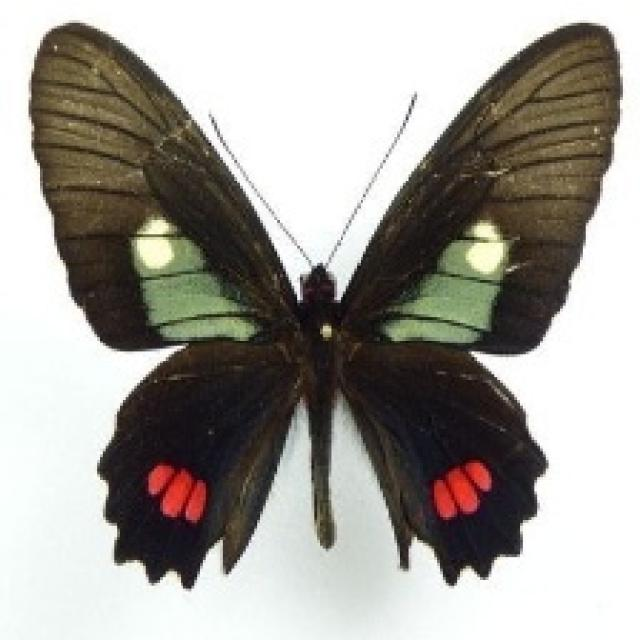butterfly: (26, 14, 623, 592)
